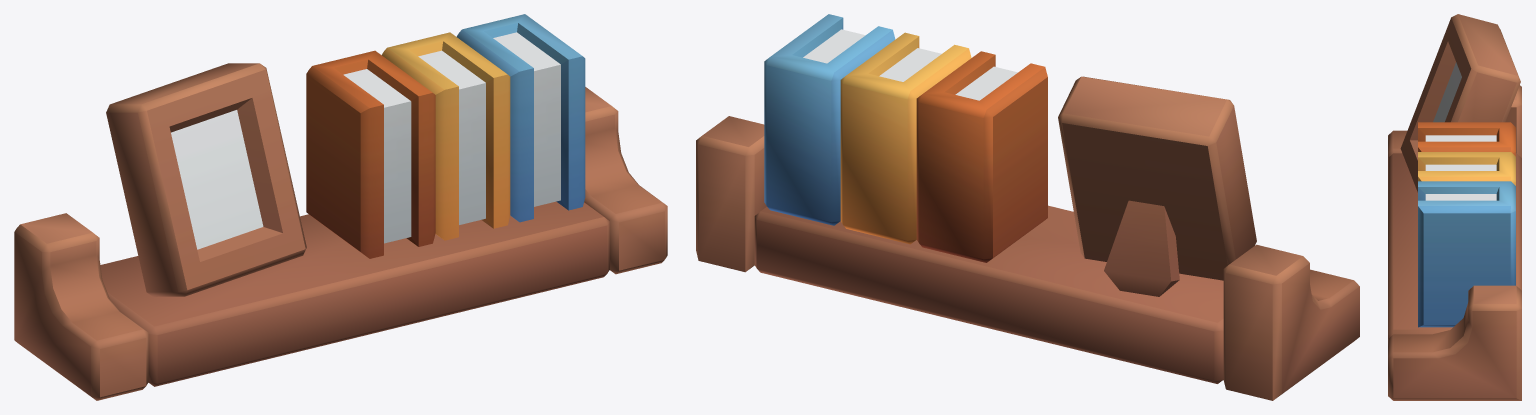
Rendered from shelf_B_large_decorated.glb.
The picture shows the model from 3 angles, left to right: view 1: azimuth 30°, elevation 25°; view 2: azimuth 150°, elevation 25°; view 3: azimuth 270°, elevation 25°; orthographic projection. The views are drawn at different scales.
Parts seen in each view (by area): view 1: shelf_B_large_decorated; view 2: shelf_B_large_decorated; view 3: shelf_B_large_decorated.
Part boxes in pixels (x1,y1,x2,y2): shelf_B_large_decorated: (14, 14, 667, 400); shelf_B_large_decorated: (696, 14, 1359, 400); shelf_B_large_decorated: (1388, 14, 1521, 400).
Bounding box in the file's own units: 2 × 0.8175 × 0.5001.
1 material, 1 textured.
